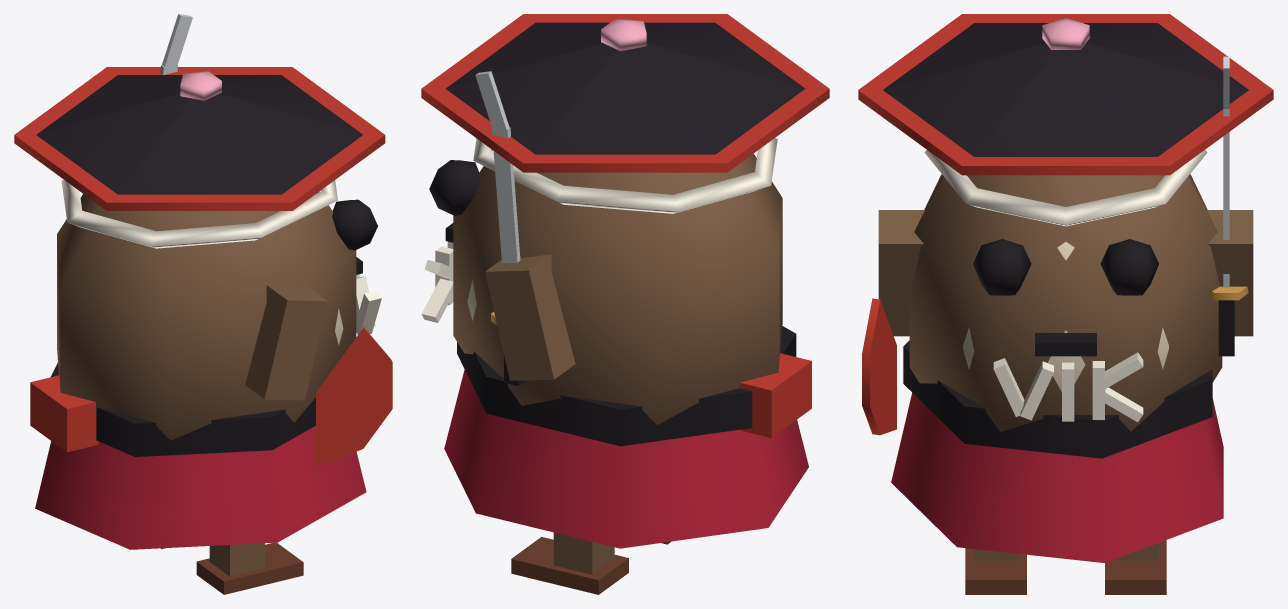
Rendered from enemy_normal.glb.
The picture shows the model from 3 angles, left to right: view 1: azimuth 30°, elevation 25°; view 2: azimuth 150°, elevation 25°; view 3: azimuth 270°, elevation 25°; orthographic projection. The views are drawn at different scales.
Visible parts, largest first — view 1: body, jingasa_hat, hakama, jingasa_rim, sensu, obi, arm_l_mesh, hachimaki, obi_knot, geta_l, eye_l, leg_l_mesh (+3 smaller); view 2: body, hakama, jingasa_hat, jingasa_rim, obi, arm_r_mesh, hachimaki, obi_knot, geta_r, katana_blade, eye_r, leg_r_mesh (+3 smaller); view 3: body, jingasa_hat, hakama, jingasa_rim, obi, hachimaki, arm_l_mesh, sensu, arm_r_mesh, eye_l, eye_r, geta_l (+12 smaller).
Part boxes in pixels (left/top/right/bottom): body: left=57, top=191, right=356, bottom=440; jingasa_hat: left=36, top=75, right=362, bottom=194; hakama: left=35, top=426, right=366, bottom=549; jingasa_rim: left=14, top=67, right=385, bottom=210; sensu: left=316, top=325, right=392, bottom=467; obi: left=51, top=362, right=315, bottom=456; arm_l_mesh: left=245, top=285, right=327, bottom=400; hachimaki: left=61, top=180, right=337, bottom=248; obi_knot: left=30, top=375, right=98, bottom=452; geta_l: left=196, top=542, right=303, bottom=594; eye_l: left=332, top=199, right=377, bottom=250; leg_l_mesh: left=209, top=543, right=264, bottom=576; body: left=453, top=153, right=782, bottom=425; hakama: left=444, top=369, right=808, bottom=548; jingasa_hat: left=445, top=22, right=805, bottom=154; jingasa_rim: left=421, top=14, right=829, bottom=172; obi: left=457, top=326, right=796, bottom=446; arm_r_mesh: left=485, top=254, right=575, bottom=380; hachimaki: left=473, top=138, right=777, bottom=213; obi_knot: left=739, top=353, right=811, bottom=437; geta_r: left=511, top=537, right=628, bottom=594; katana_blade: left=491, top=127, right=520, bottom=262; eye_r: left=429, top=160, right=479, bottom=215; leg_r_mesh: left=553, top=532, right=614, bottom=574; body: left=909, top=174, right=1222, bottom=431; jingasa_hat: left=883, top=23, right=1248, bottom=156; hakama: left=891, top=392, right=1223, bottom=562; jingasa_rim: left=858, top=14, right=1273, bottom=175; obi: left=903, top=340, right=1212, bottom=458; hachimaki: left=924, top=150, right=1207, bottom=226; arm_l_mesh: left=878, top=210, right=924, bottom=336; sensu: left=862, top=298, right=896, bottom=435; arm_r_mesh: left=1207, top=210, right=1253, bottom=336; eye_l: left=973, top=239, right=1031, bottom=295; eye_r: left=1100, top=239, right=1158, bottom=295; geta_l: left=965, top=548, right=1026, bottom=594.
Size of the model in its own units: 0.1943 by 0.29 by 0.202.
